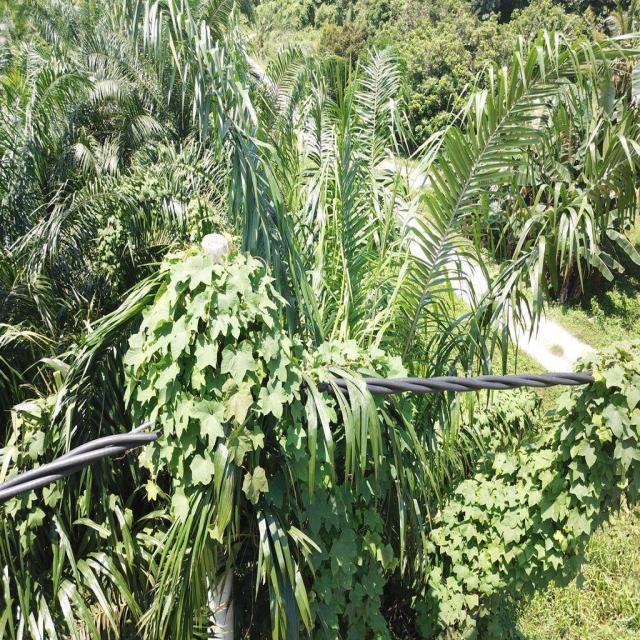critical vegetation: (116, 230, 334, 541)
